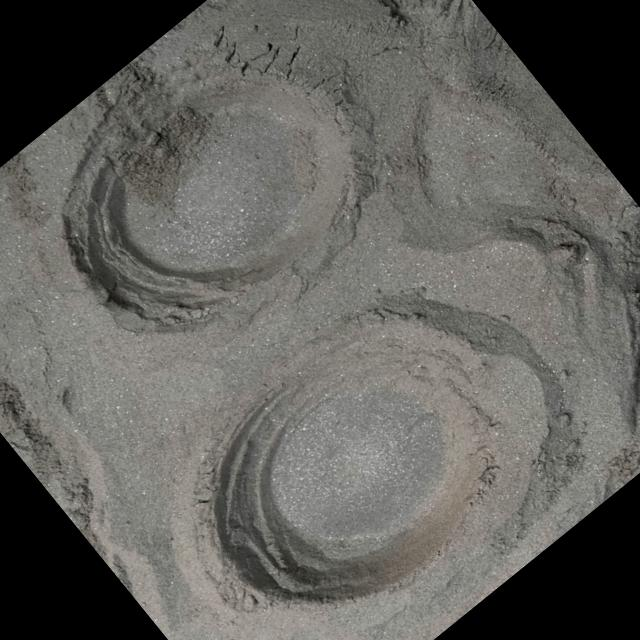C20: (63, 66, 376, 333), (216, 343, 501, 604)
